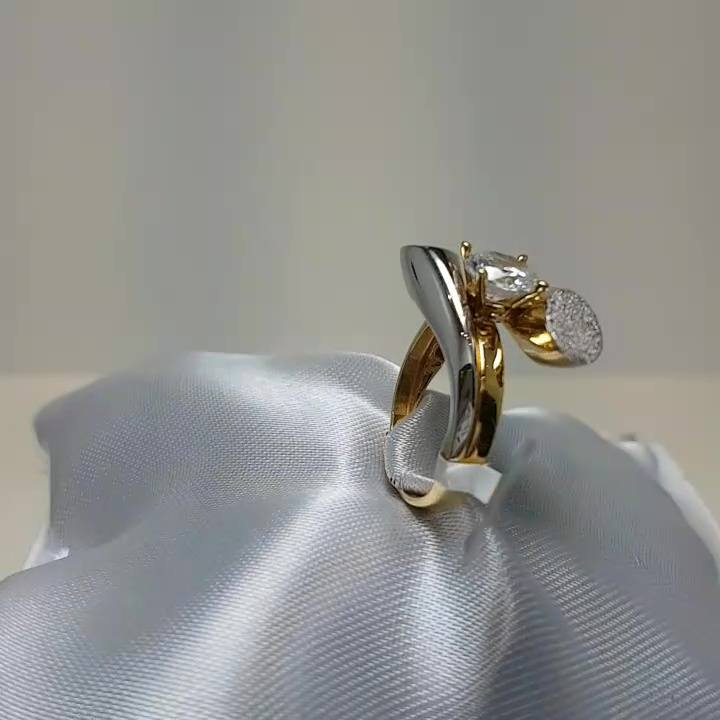Ring 7: (367, 224, 618, 535)
